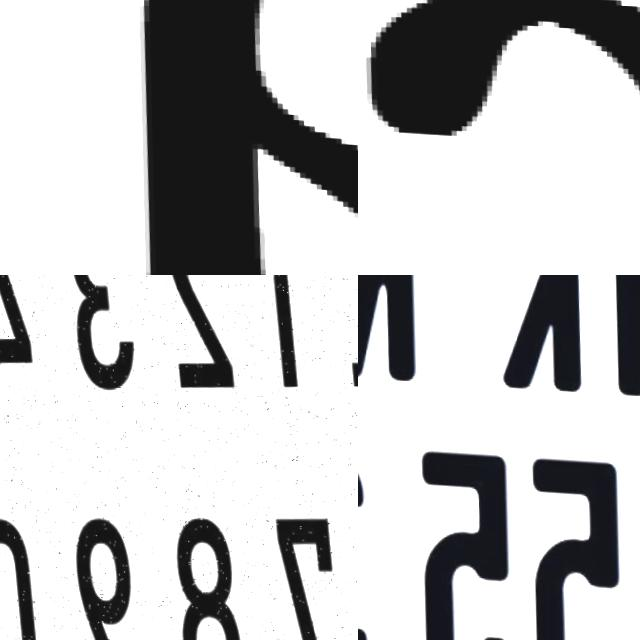0: (0, 494, 53, 640)
1: (248, 275, 323, 400), (602, 275, 640, 399)
2: (148, 275, 248, 411)
3: (47, 275, 149, 404)
4: (0, 275, 41, 407)
5: (512, 449, 624, 640), (409, 445, 513, 640)
7: (251, 476, 348, 640)
8: (151, 484, 251, 640)
9: (49, 488, 149, 640)
A: (4, 0, 358, 275)
C: (363, 0, 640, 139)
K: (485, 275, 586, 397)
N: (358, 275, 422, 384)
